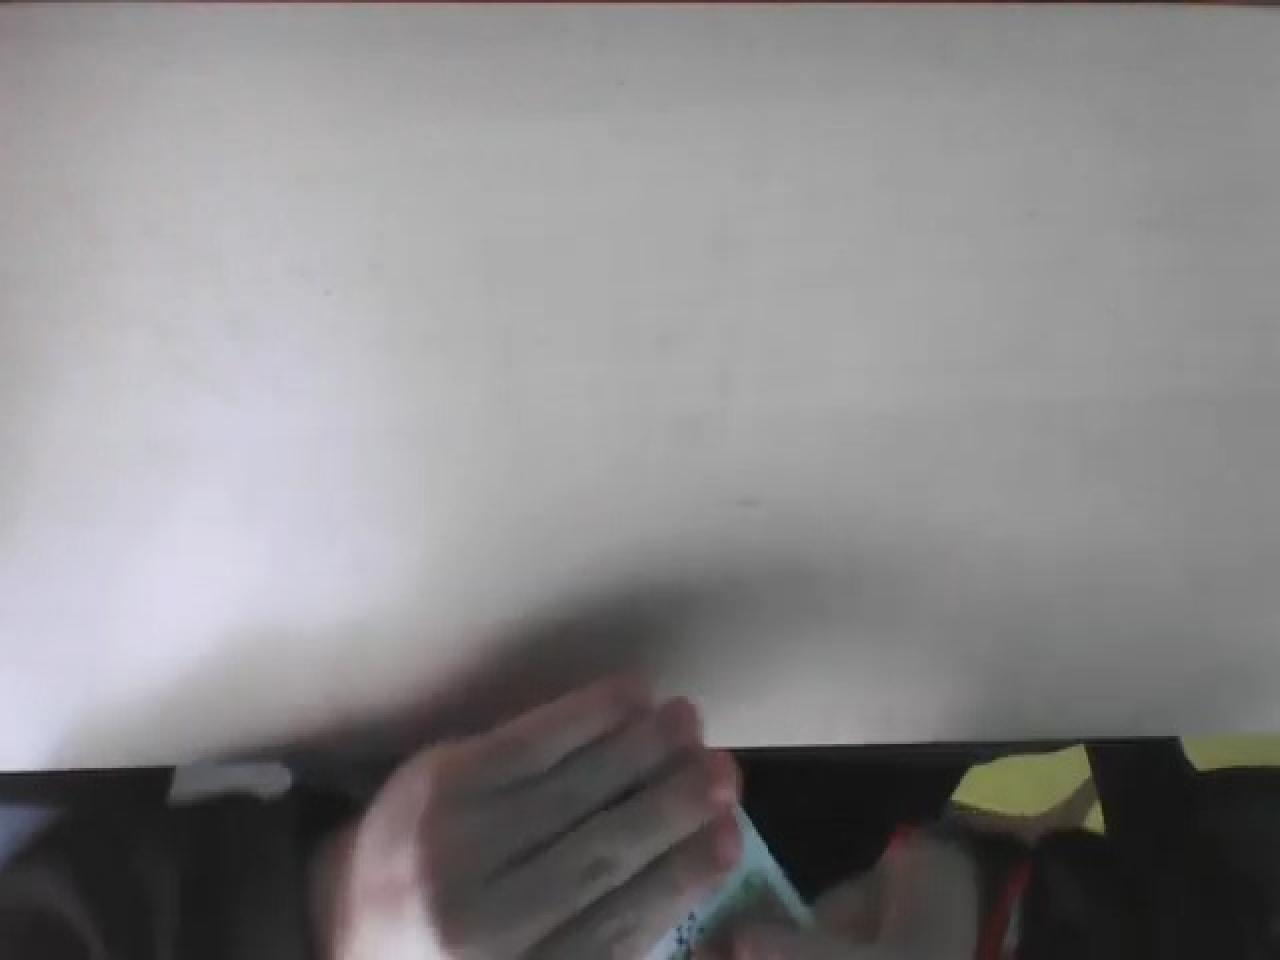100leva: (644, 800, 812, 960)
